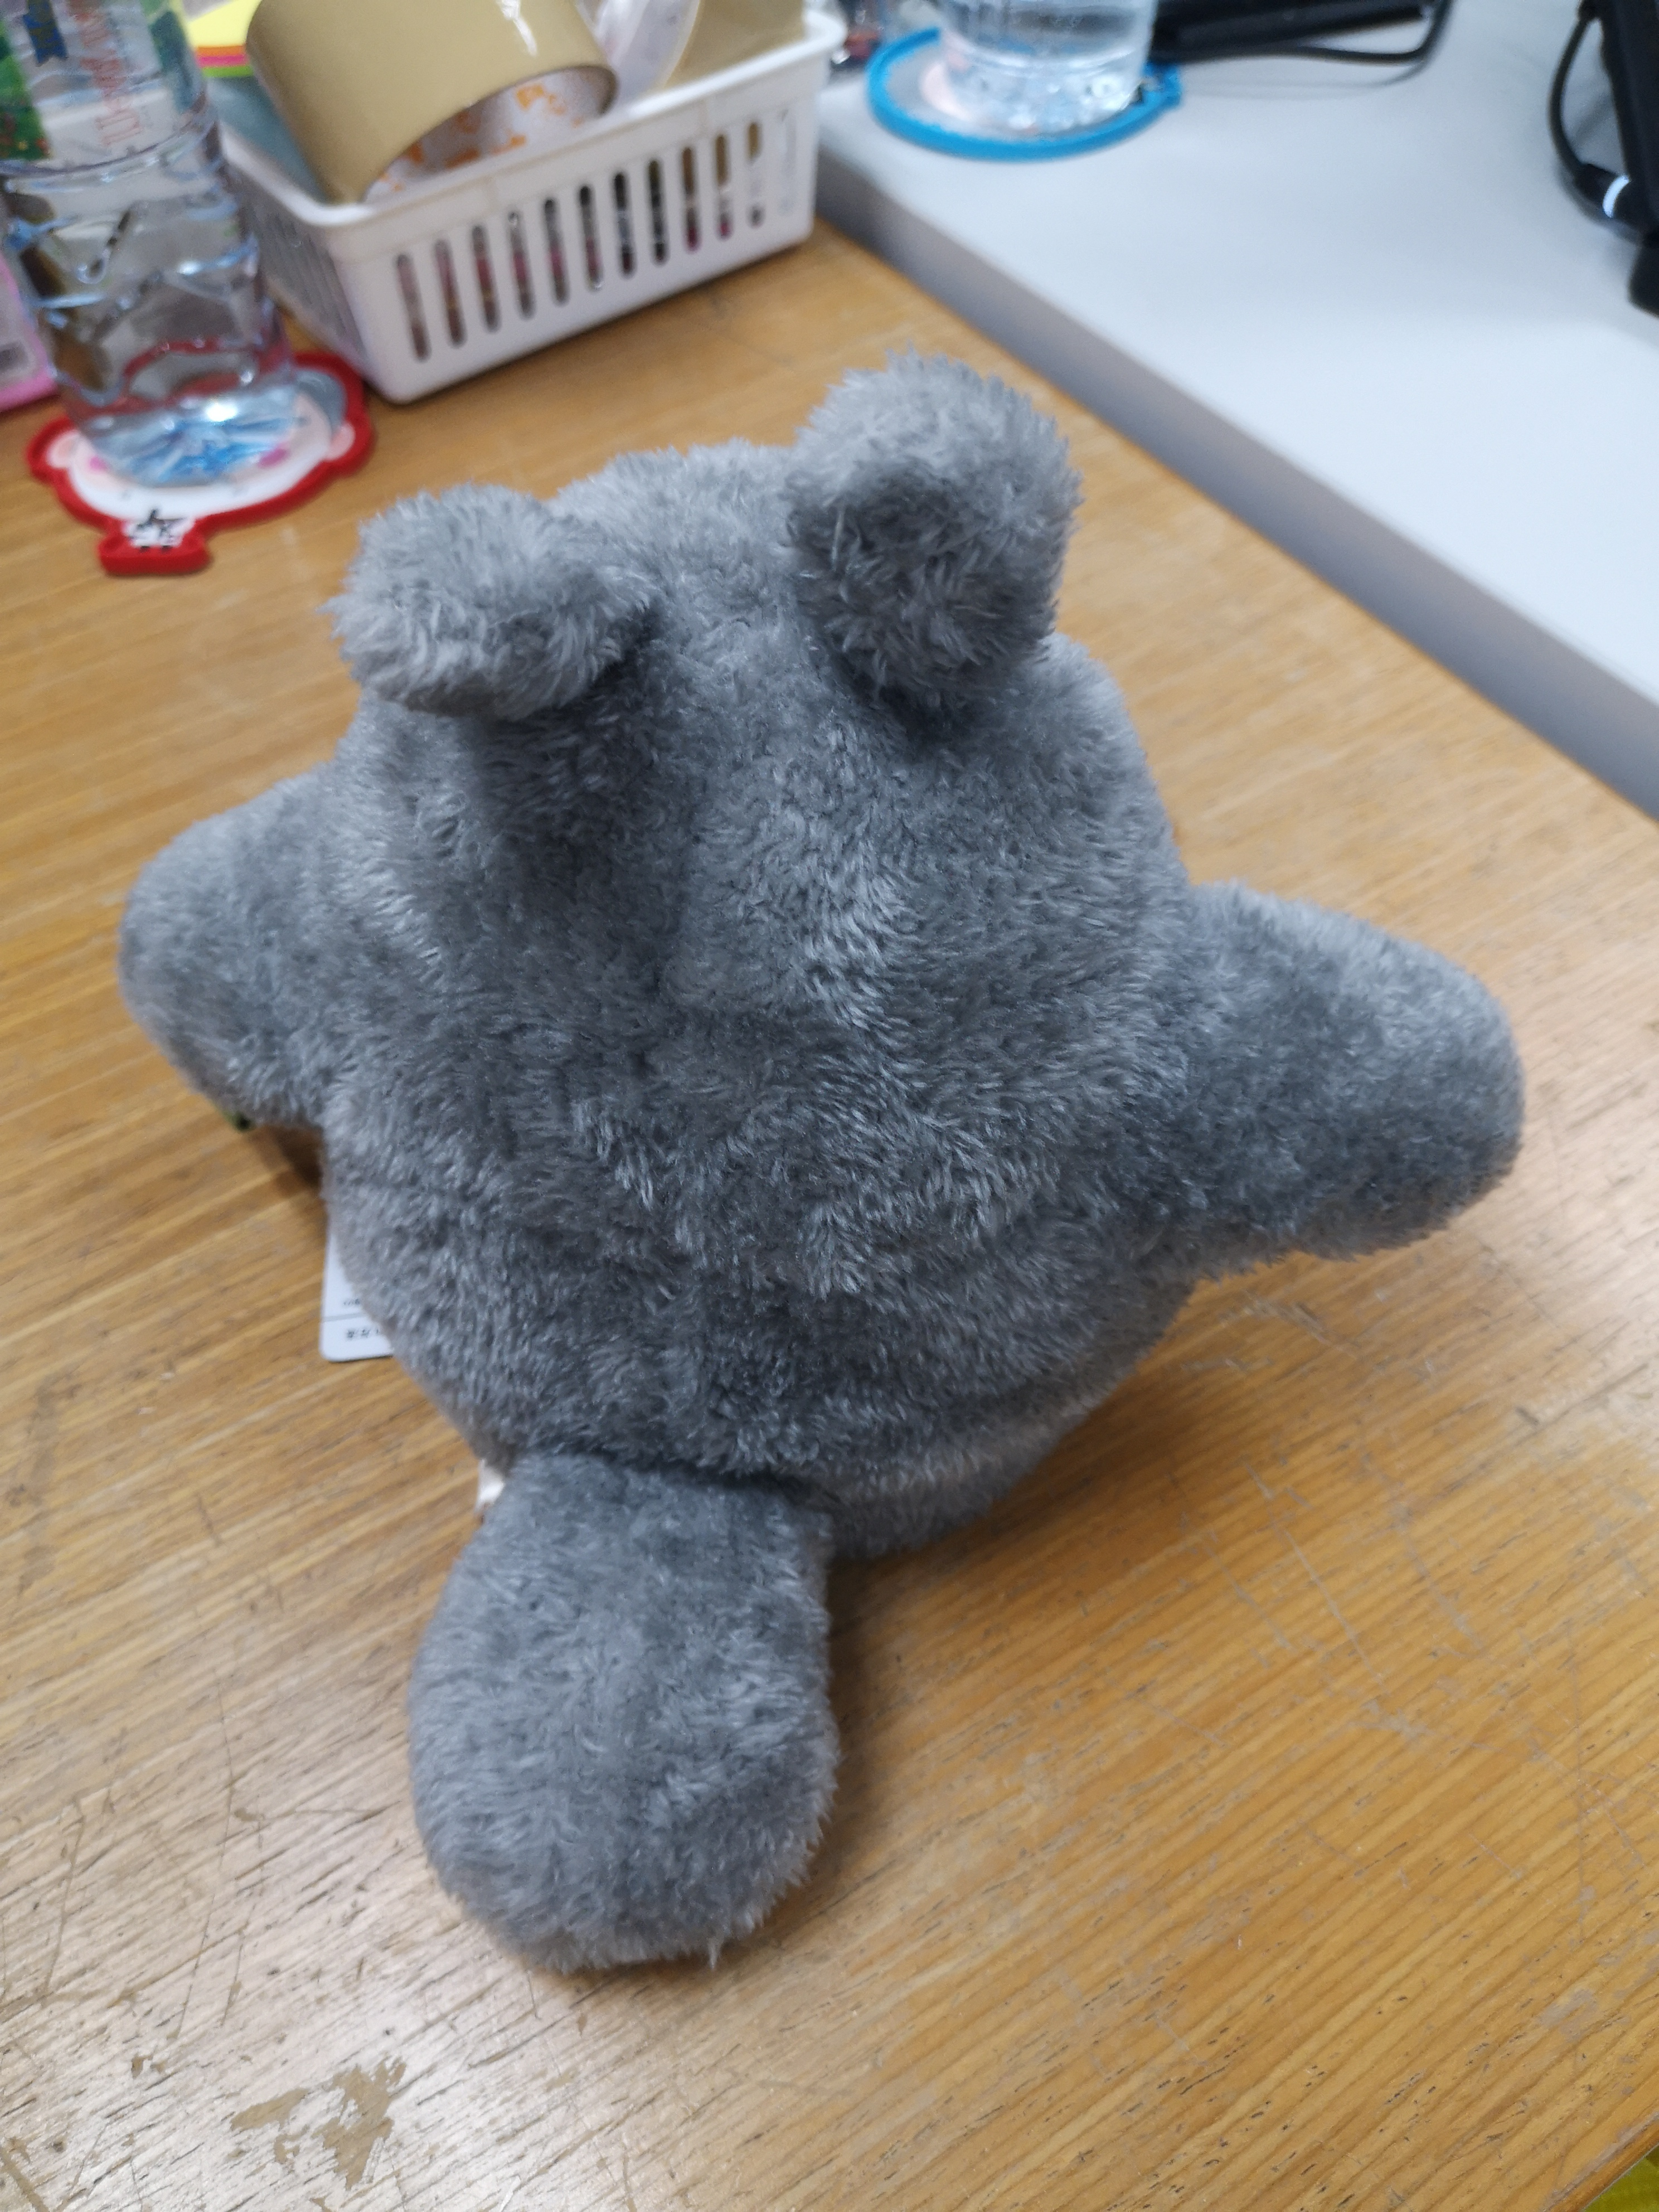totoro: (110, 334, 1537, 1991)
